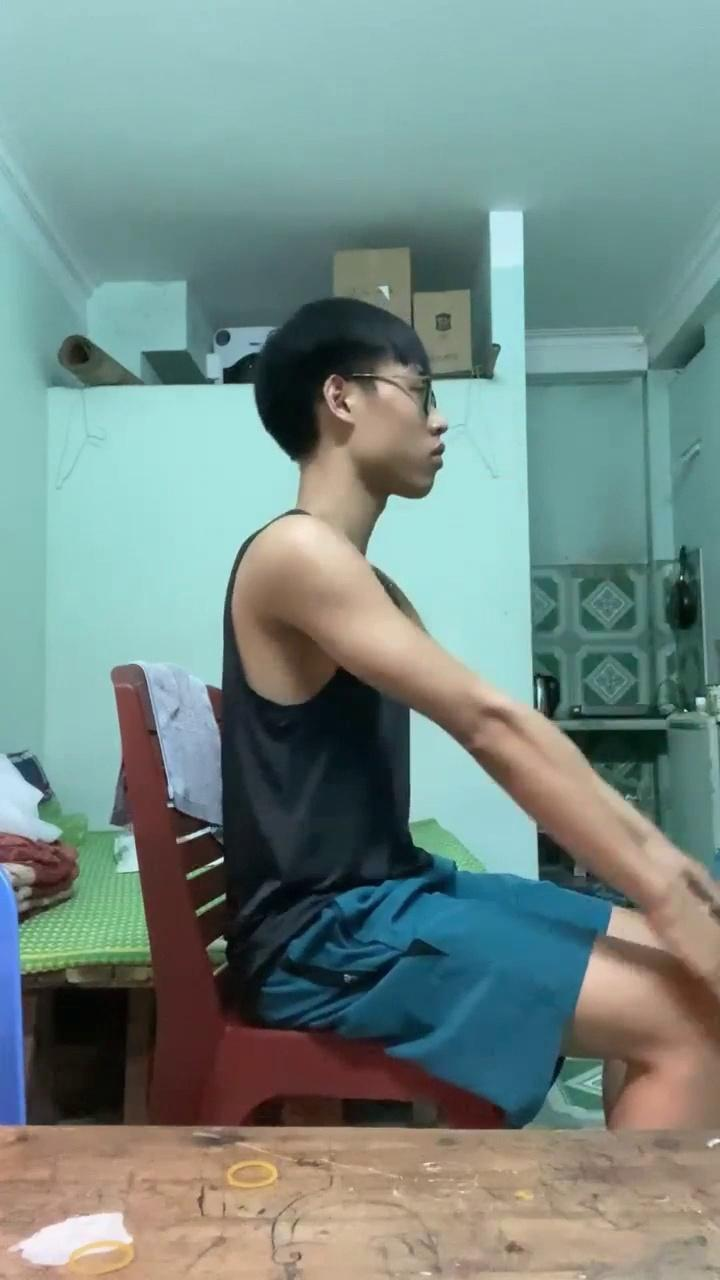GoodPosture: (210, 298, 719, 1129)
